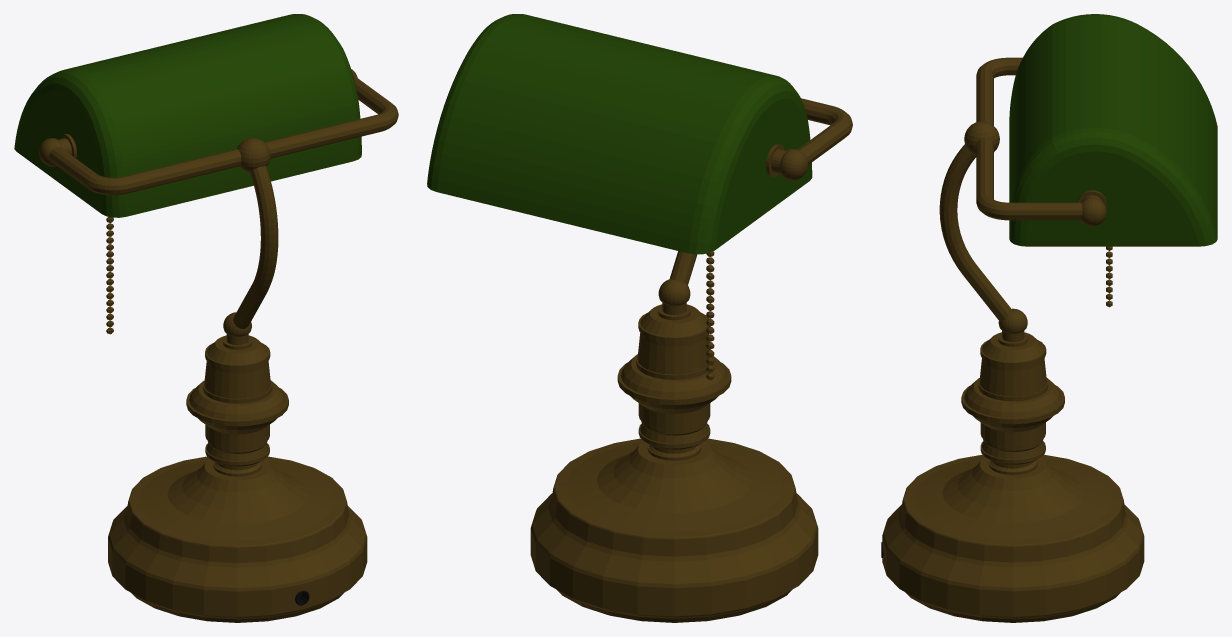
Rendered from original_shape.glb.
The picture shows the model from 3 angles, left to right: view 1: azimuth 30°, elevation 25°; view 2: azimuth 150°, elevation 25°; view 3: azimuth 270°, elevation 25°; orthographic projection. The views are drawn at different scales.
Visible parts, largest first — view 1: world; view 2: world; view 3: world.
Boxes of the visible parts, left/top/right/bottom form: world: left=14, top=14, right=398, bottom=622; world: left=427, top=14, right=852, bottom=622; world: left=881, top=14, right=1217, bottom=622.
Bounding box in the file's own units: 0.4934 × 0.7432 × 0.452.
1 material, 1 textured.
